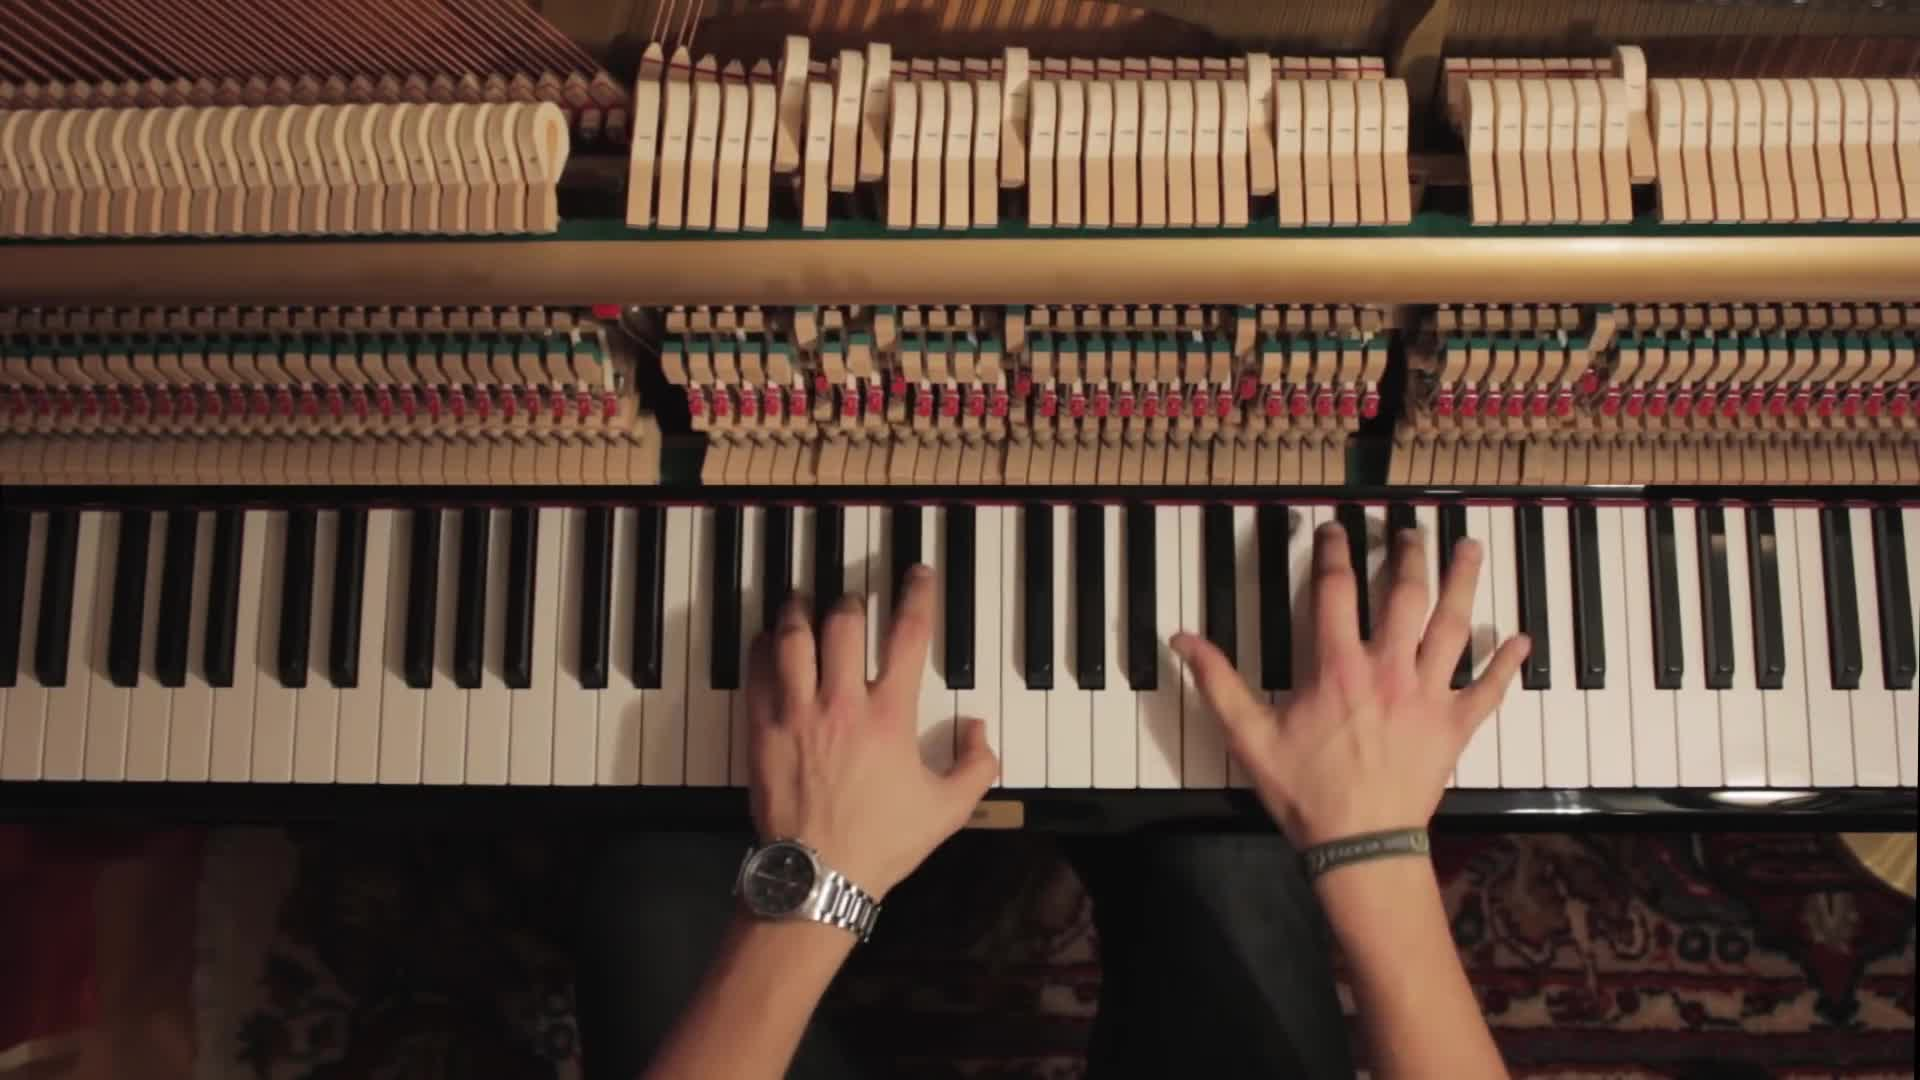left: (744, 556, 1000, 891)
right: (1172, 520, 1534, 829)
